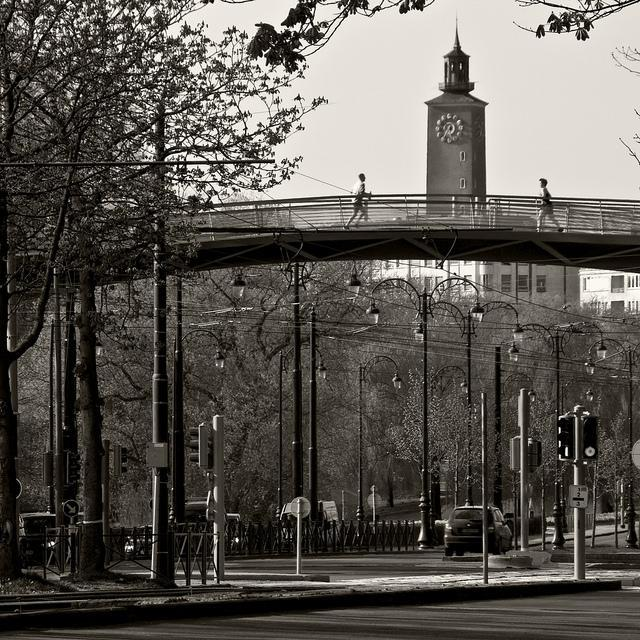car: (442, 505, 514, 557)
